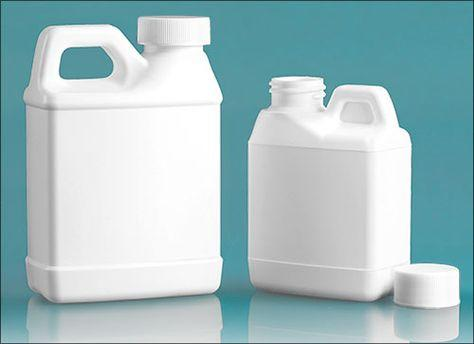HDPE: (22, 25, 224, 304), (249, 76, 412, 303), (392, 263, 460, 308), (138, 17, 211, 45)
